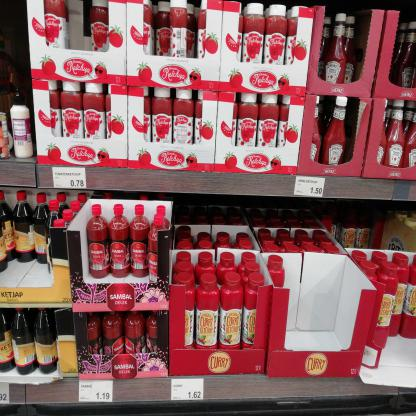prtg: (80, 381, 114, 403), (53, 168, 87, 189), (173, 380, 205, 402), (295, 177, 326, 198)
